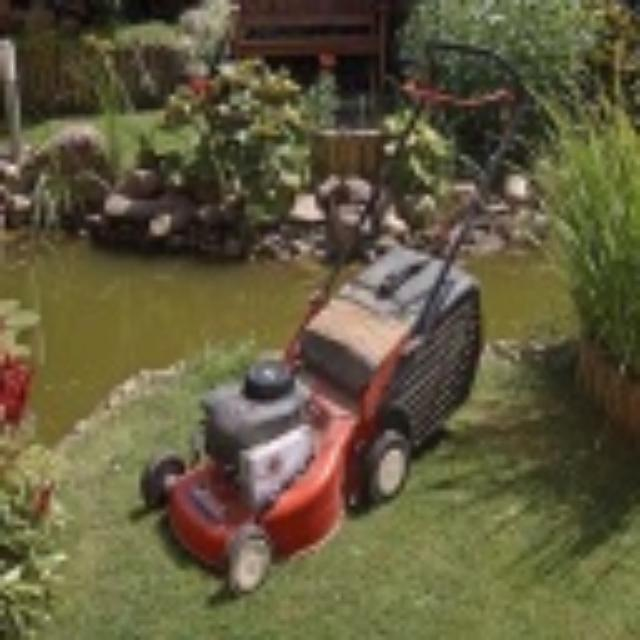Rotary-Mower: (126, 38, 528, 610)
